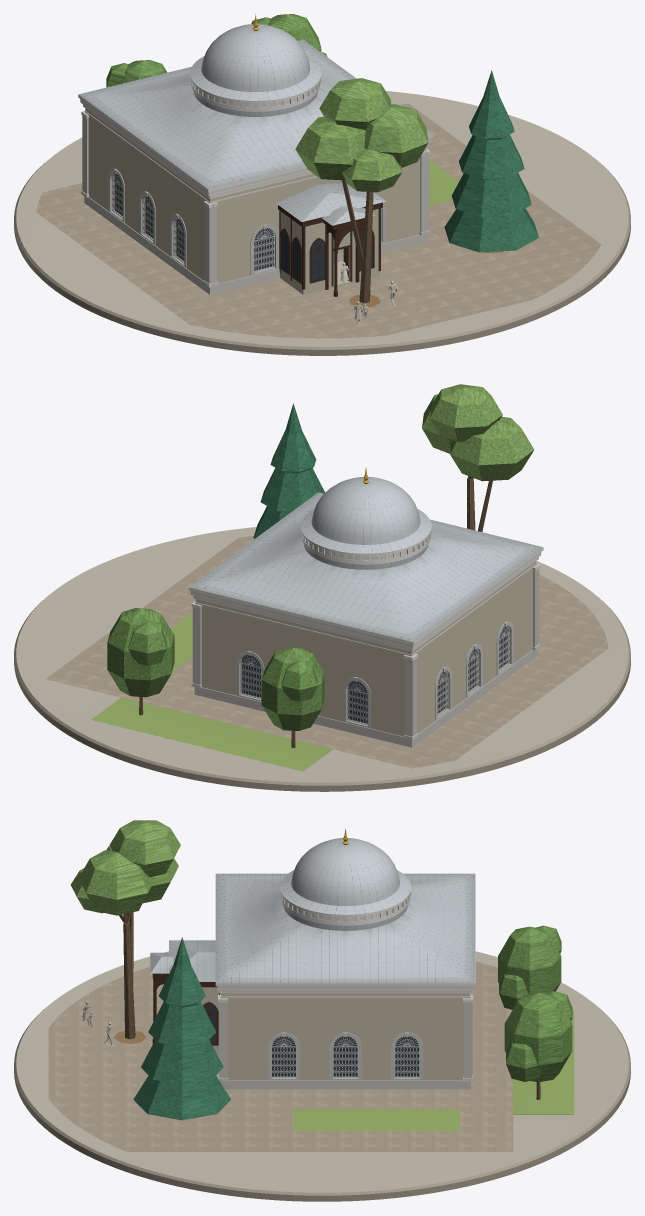
File: orhan-gazi-turbesi_v01_sunum.glb
3 renders of one model, top to bottom at view 1: azimuth 30°, elevation 25°; view 2: azimuth 150°, elevation 25°; view 3: azimuth 270°, elevation 25°, orthographic.
Parts seen in each view (by area): view 1: Zemin_Doseme, Zemin_Kaide, Govde, Cati_Etek, Cevre_Agac_01, Cevre_Agac_04, Giris_Holu, Pilastr_Silme, Kubbe, Pencereler, Kasnak, Zemin_Cim (+2 smaller); view 2: Zemin_Kaide, Govde, Cati_Etek, Zemin_Doseme, Pilastr_Silme, Cevre_Agac_01, Kubbe, Zemin_Cim, Cevre_Agac_02, Cevre_Agac_03, Pencereler, Cevre_Agac_04 (+1 smaller); view 3: Zemin_Doseme, Zemin_Kaide, Cati_Etek, Govde, Cevre_Agac_04, Cevre_Agac_01, Pilastr_Silme, Kubbe, Zemin_Cim, Cevre_Agac_02, Cevre_Agac_03, Pencereler (+2 smaller).
Part boxes in pixels (box(x1,y1,x2,y2)): Zemin_Doseme: box(36, 103, 601, 338); Zemin_Kaide: box(14, 91, 630, 355); Govde: box(85, 108, 425, 283); Cati_Etek: box(79, 39, 432, 189); Cevre_Agac_01: box(295, 78, 428, 303); Cevre_Agac_04: box(444, 70, 538, 252); Giris_Holu: box(276, 183, 386, 296); Pilastr_Silme: box(78, 94, 433, 294); Kubbe: box(190, 14, 321, 100); Pencereler: box(108, 168, 385, 274); Kasnak: box(190, 77, 320, 116); Zemin_Cim: box(349, 160, 502, 307); Zemin_Kaide: box(14, 527, 630, 791); Govde: box(195, 561, 536, 736); Cati_Etek: box(189, 492, 542, 641); Zemin_Doseme: box(46, 536, 608, 768); Pilastr_Silme: box(188, 547, 543, 747); Cevre_Agac_01: box(422, 384, 534, 531); Kubbe: box(300, 467, 431, 553); Zemin_Cim: box(91, 613, 333, 771); Cevre_Agac_02: box(107, 608, 174, 715); Cevre_Agac_03: box(261, 647, 324, 747); Pencereler: box(236, 621, 513, 727); Cevre_Agac_04: box(253, 403, 325, 538); Zemin_Doseme: box(48, 961, 513, 1151); Zemin_Kaide: box(14, 951, 630, 1201); Cati_Etek: box(215, 873, 475, 983); Govde: box(221, 993, 470, 1080); Cevre_Agac_04: box(133, 937, 230, 1120); Cevre_Agac_01: box(70, 820, 180, 1039); Pilastr_Silme: box(215, 874, 475, 1089); Kubbe: box(280, 829, 411, 914); Zemin_Cim: box(114, 1011, 574, 1130); Cevre_Agac_02: box(504, 991, 572, 1099); Cevre_Agac_03: box(498, 925, 561, 1009); Pencereler: box(267, 1032, 423, 1079).
Size of the model in its own units: 41.56 by 16.5 by 41.56.
24 materials, 9 textured.
